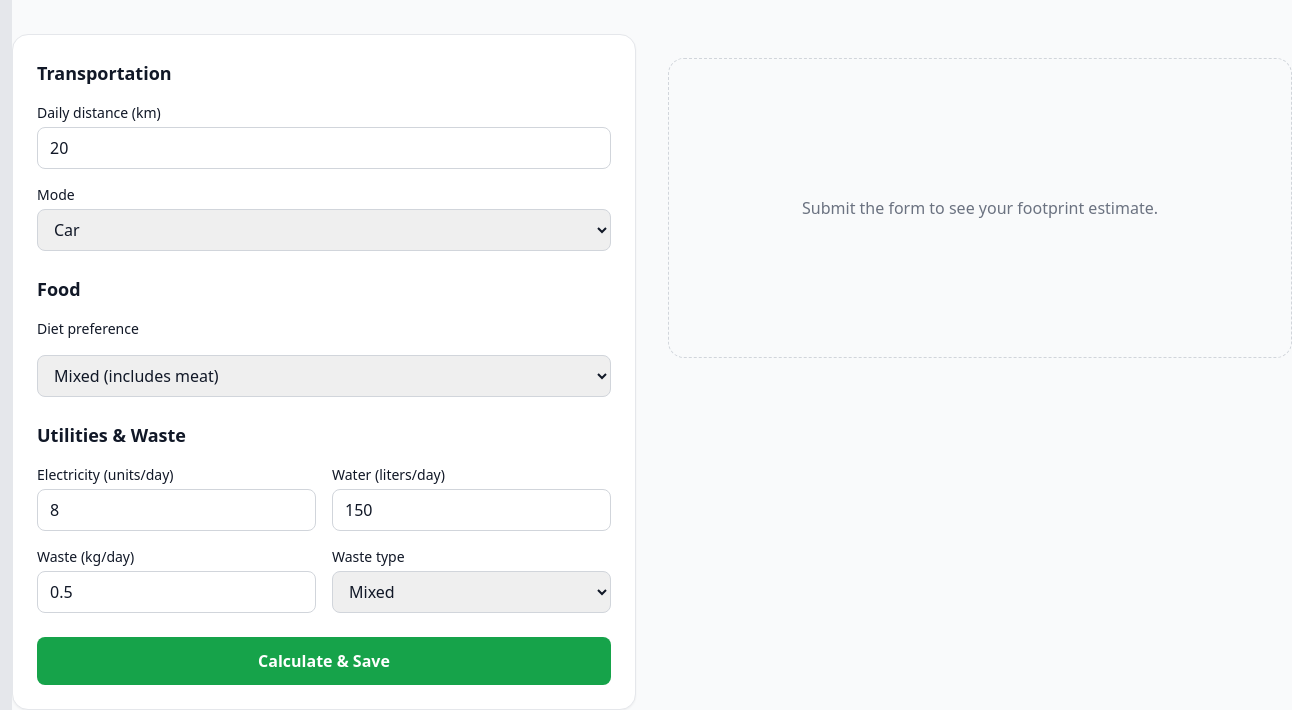
Test: CalculatorPage › calculates and displays results on valid submit
(page scrolled)
Click the button "Calculate & Save" at x=324, y=661, box [37, 637, 611, 685]
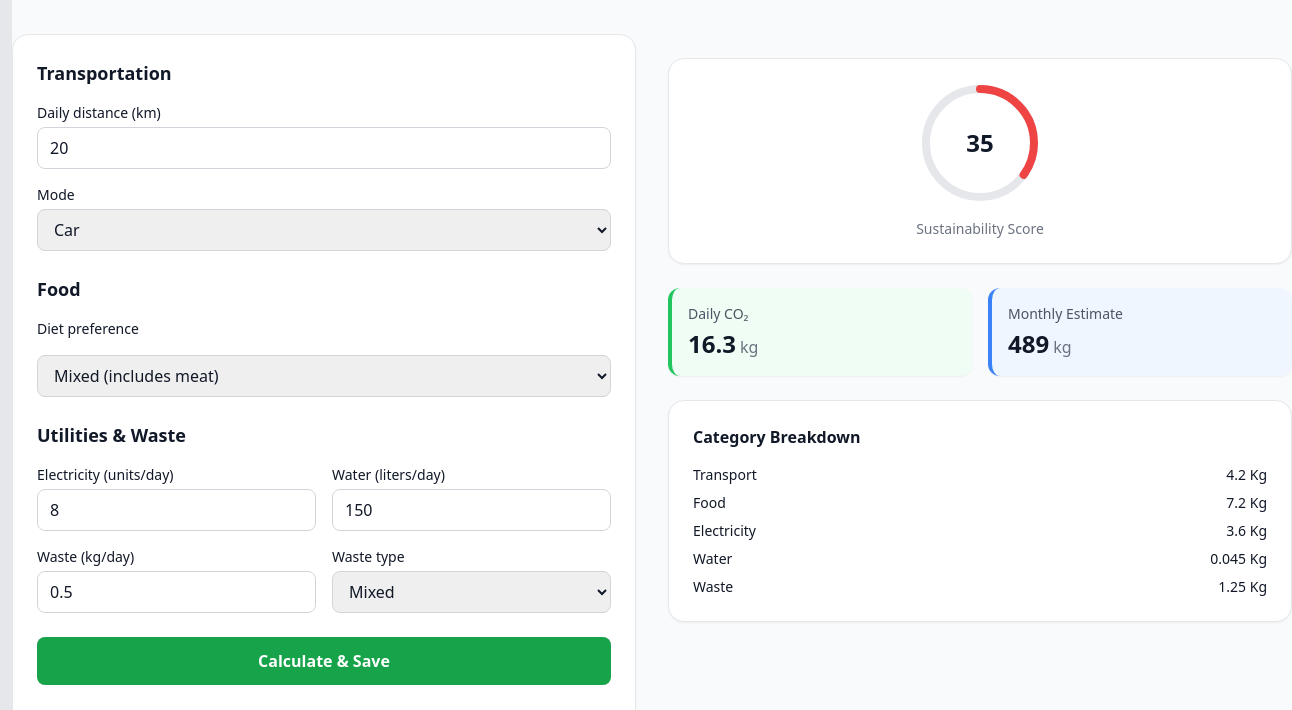
Expected: the picture named "Sustainability score 35" is shown, [920, 83, 1040, 203]
Expected: the text "Daily CO₂" is shown, [688, 304, 748, 323]
Expected: the heading "Category Breakdown" is shown, [693, 426, 860, 448]
